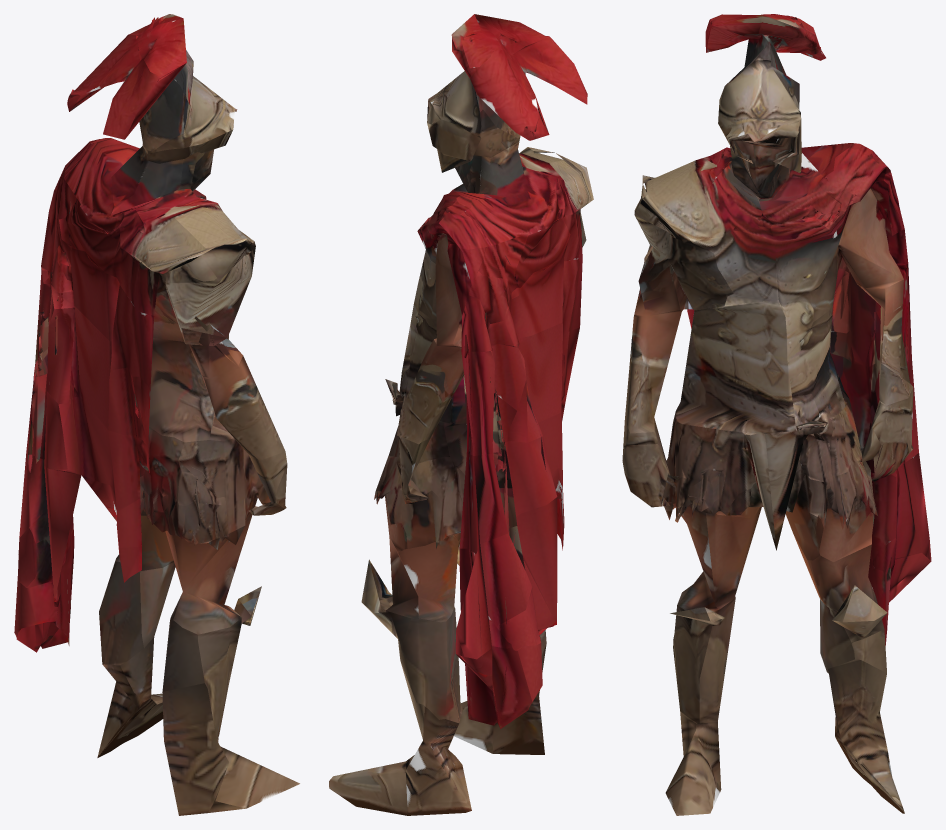
3 views of the same model, side by side, from view 1: azimuth 30°, elevation 25°; view 2: azimuth 150°, elevation 25°; view 3: azimuth 270°, elevation 25° (orthographic). The views are drawn at different scales.
Visible parts, largest first — view 1: body; view 2: body; view 3: body.
Boxes of the visible parts, box(x1,y1,x2,y2) form: body: box(14, 14, 299, 815); body: box(329, 14, 593, 815); body: box(622, 14, 931, 815).
Bounding box in the file's own units: 0.2623 × 0.9929 × 0.3581.
Materials: 1 (1 with a texture image).
